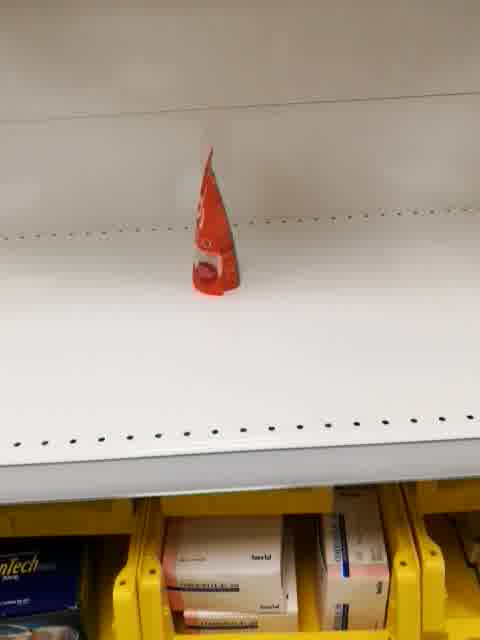whitechia: (188, 145, 243, 297)
